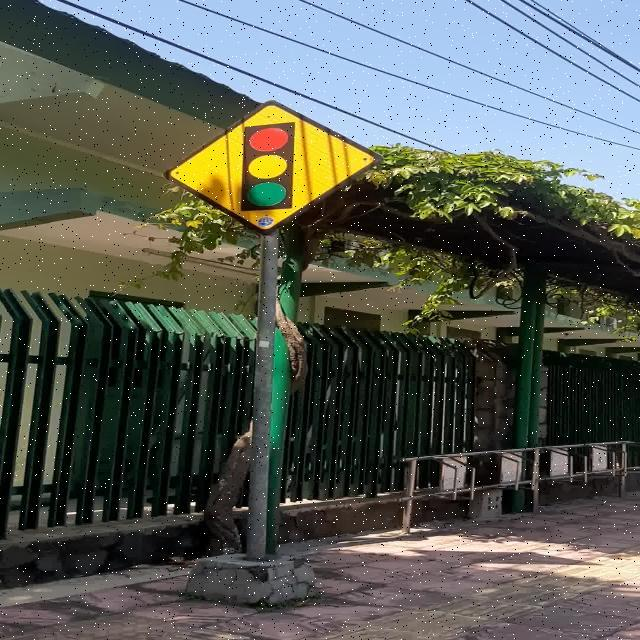Lampu Lalu Lintas: (162, 100, 384, 236)
